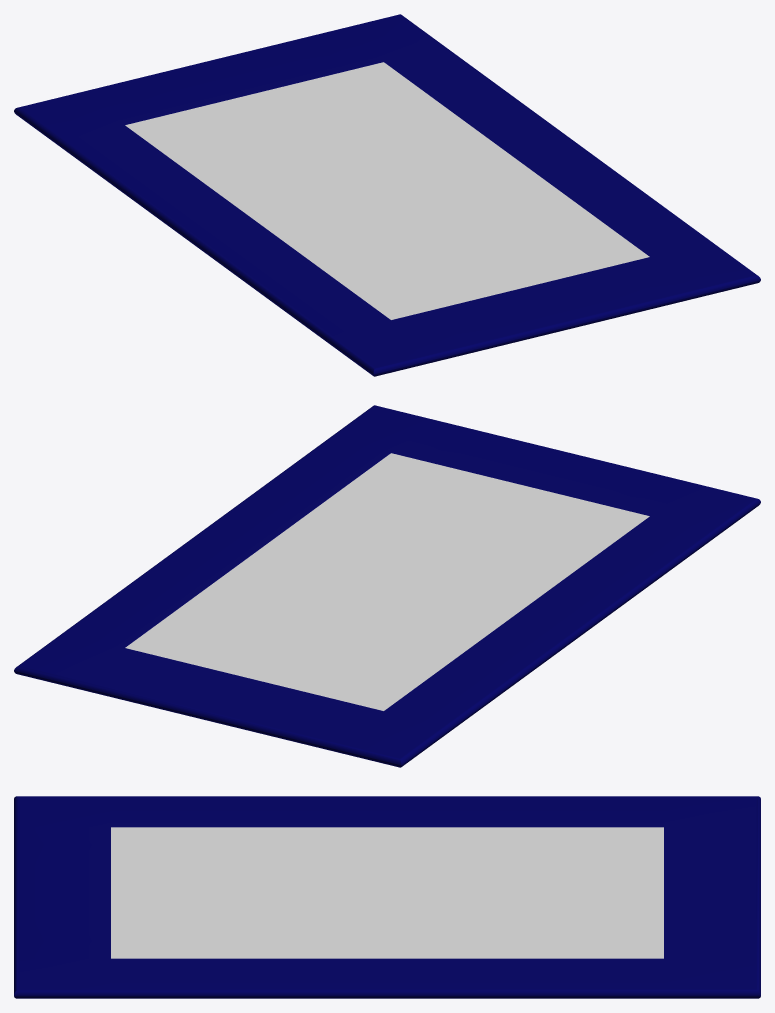
Rendered from Tapis_12.fbx.
3 renders of one model, top to bottom at view 1: azimuth 30°, elevation 25°; view 2: azimuth 150°, elevation 25°; view 3: azimuth 270°, elevation 25°, orthographic. The views are drawn at different scales.
Visible parts, largest first — view 1: pCube2880; view 2: pCube2880; view 3: pCube2880.
Part boxes in pixels (x1,y1,x2,y2): pCube2880: (14,14,760,376); pCube2880: (14,405,760,767); pCube2880: (14,796,760,998).
Size of the model in its own units: 83.89 by 1.8 by 135.
